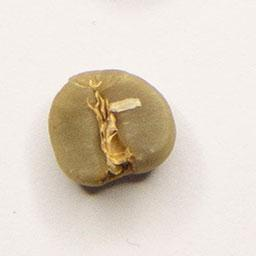premium: (43, 63, 181, 195)
